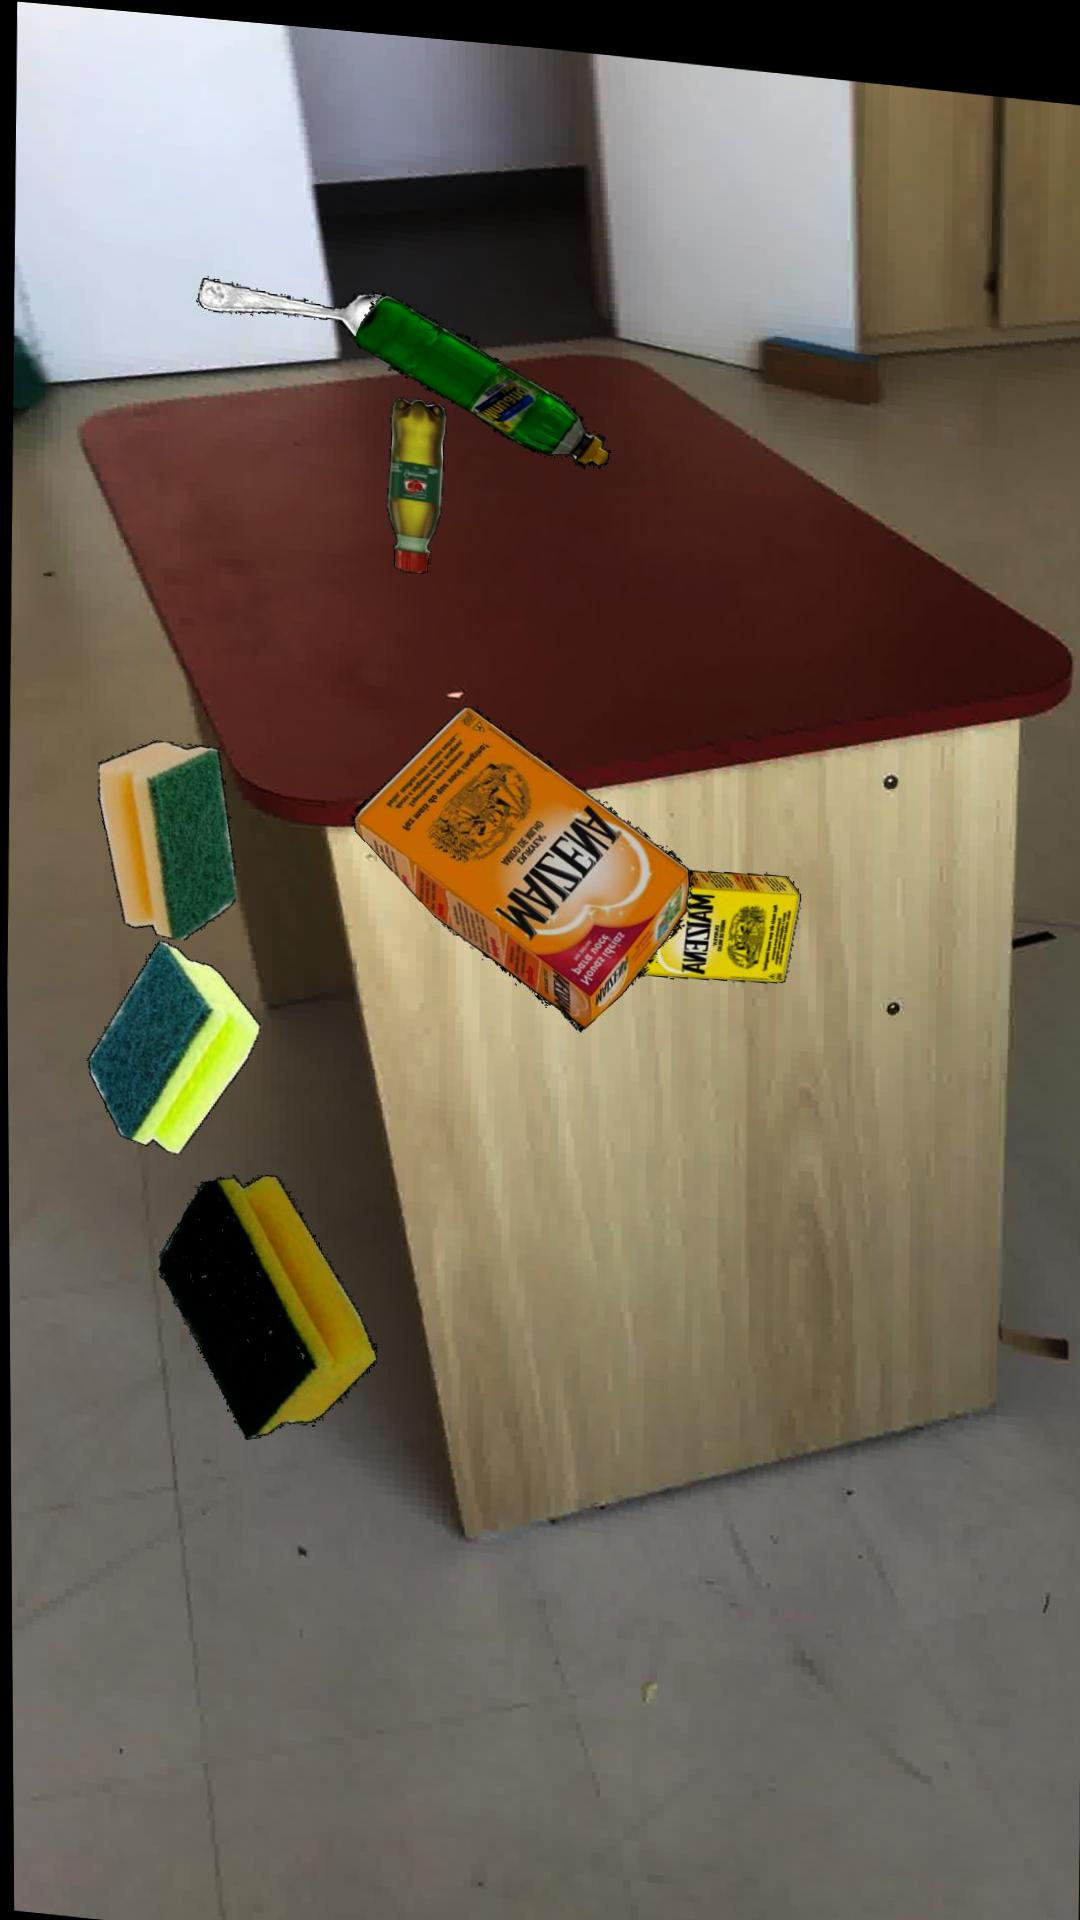cleaner: (352, 284, 609, 456)
guarana: (385, 389, 444, 564)
sponge: (154, 1168, 373, 1433), (84, 936, 257, 1150), (95, 736, 232, 935)
spoon: (195, 273, 381, 330)
